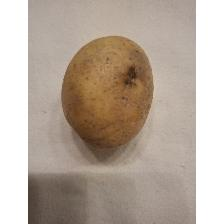Kartoffel: (60, 34, 156, 152)
